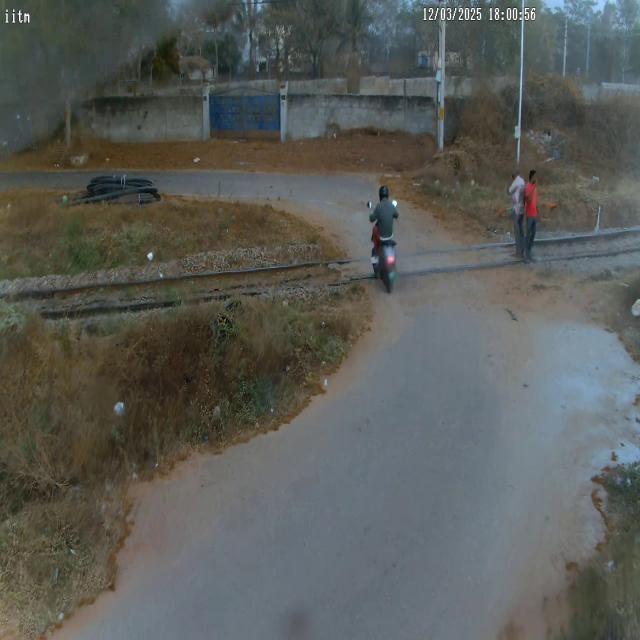objects: (360, 172, 402, 298), (505, 165, 523, 256), (524, 170, 536, 259)
